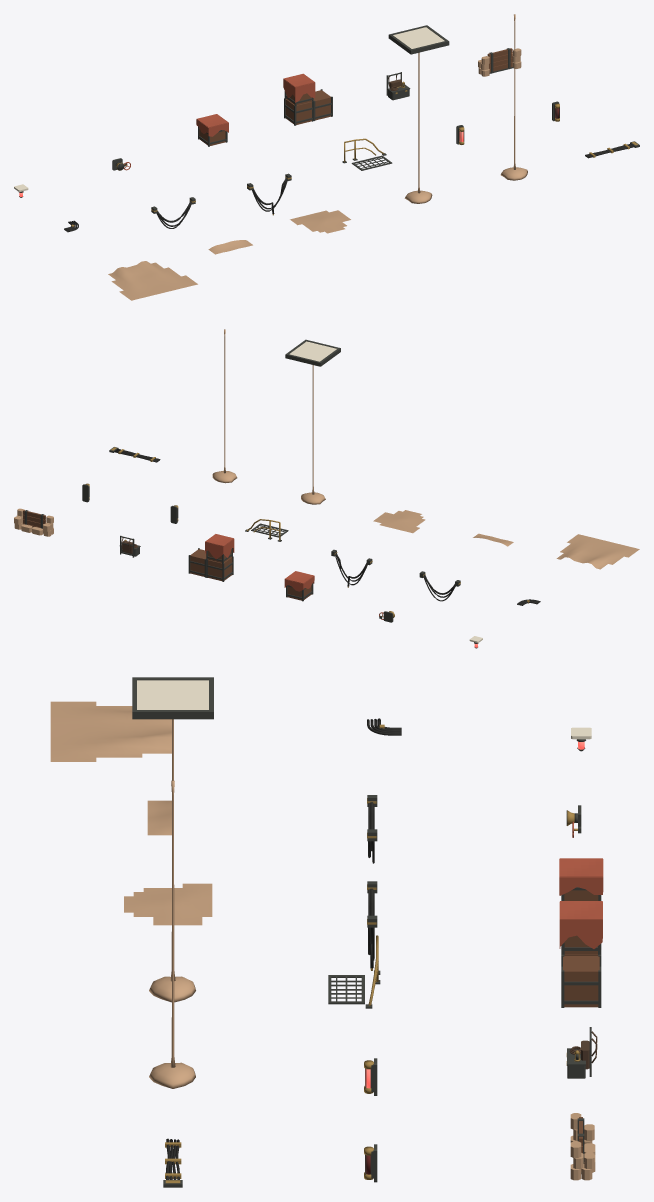
File: kit_ruins_clutter.glb
3 renders of one model, top to bottom at view 1: azimuth 30°, elevation 25°; view 2: azimuth 150°, elevation 25°; view 3: azimuth 270°, elevation 25°, orthographic. The views are drawn at different scales.
Parts seen in each view (by area): view 1: sand_door, tarp_crate_stack, sand_fall, sand_floor, barricade, tarp_crate, sand_stream, rail_bent, salvager_kit; view 2: tarp_crate_stack, sand_door, sand_fall, barricade, sand_floor, tarp_crate, sand_stream; view 3: sand_door, sand_fall, tarp_crate_stack, sand_floor, tarp_crate, sand_stream, barricade, rail_bent, salvager_kit, sand_stairs, cable_floor.
Part boxes in pixels (bbox=[...]): sand_door: bbox=[108, 261, 197, 300]; tarp_crate_stack: bbox=[283, 73, 332, 125]; sand_fall: bbox=[388, 25, 449, 203]; sand_floor: bbox=[290, 210, 350, 233]; barricade: bbox=[478, 48, 521, 76]; tarp_crate: bbox=[196, 114, 228, 146]; sand_stream: bbox=[500, 14, 527, 180]; rail_bent: bbox=[342, 138, 392, 170]; salvager_kit: bbox=[386, 72, 410, 100]; tarp_crate_stack: bbox=[188, 534, 234, 581]; sand_door: bbox=[556, 534, 639, 569]; sand_fall: bbox=[285, 339, 340, 504]; barricade: bbox=[14, 508, 53, 536]; sand_floor: bbox=[373, 510, 425, 533]; tarp_crate: bbox=[284, 571, 314, 601]; sand_stream: bbox=[212, 329, 237, 483]; sand_door: bbox=[50, 701, 171, 761]; sand_fall: bbox=[132, 677, 213, 1002]; tarp_crate_stack: bbox=[559, 901, 602, 1007]; sand_floor: bbox=[124, 883, 212, 925]; tarp_crate: bbox=[559, 858, 603, 900]; sand_stream: bbox=[149, 780, 195, 1088]; barricade: bbox=[570, 1113, 595, 1180]; rail_bent: bbox=[328, 935, 380, 1008]; salvager_kit: bbox=[566, 1027, 597, 1078]; sand_stairs: bbox=[147, 800, 171, 835]; cable_floor: bbox=[163, 1138, 182, 1187].
Bounding box in the file's own units: 28.15 × 9.69 × 13.54.
